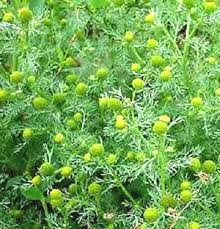pineple: (90, 81, 216, 179)
